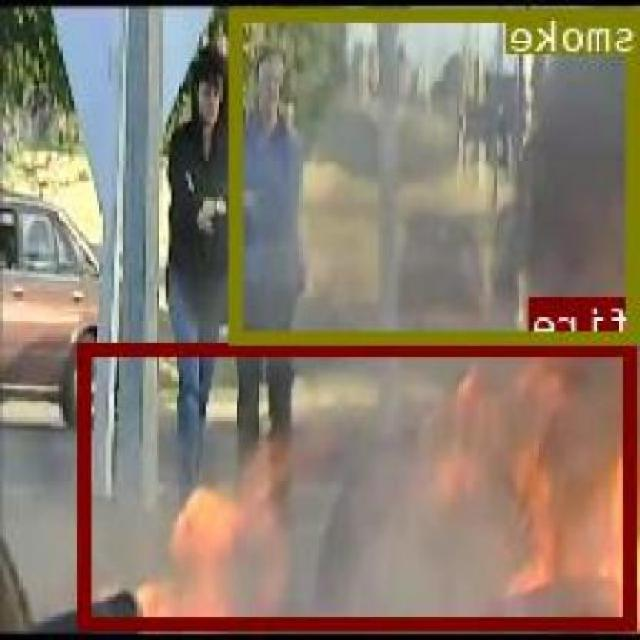Fire: (81, 343, 638, 628)
Smoke: (234, 7, 640, 342)
